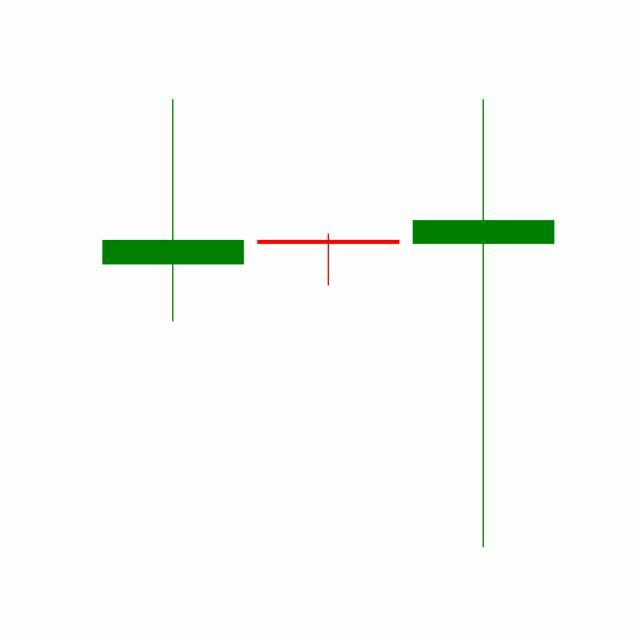Dragonfly Doji: (250, 233, 407, 287)
